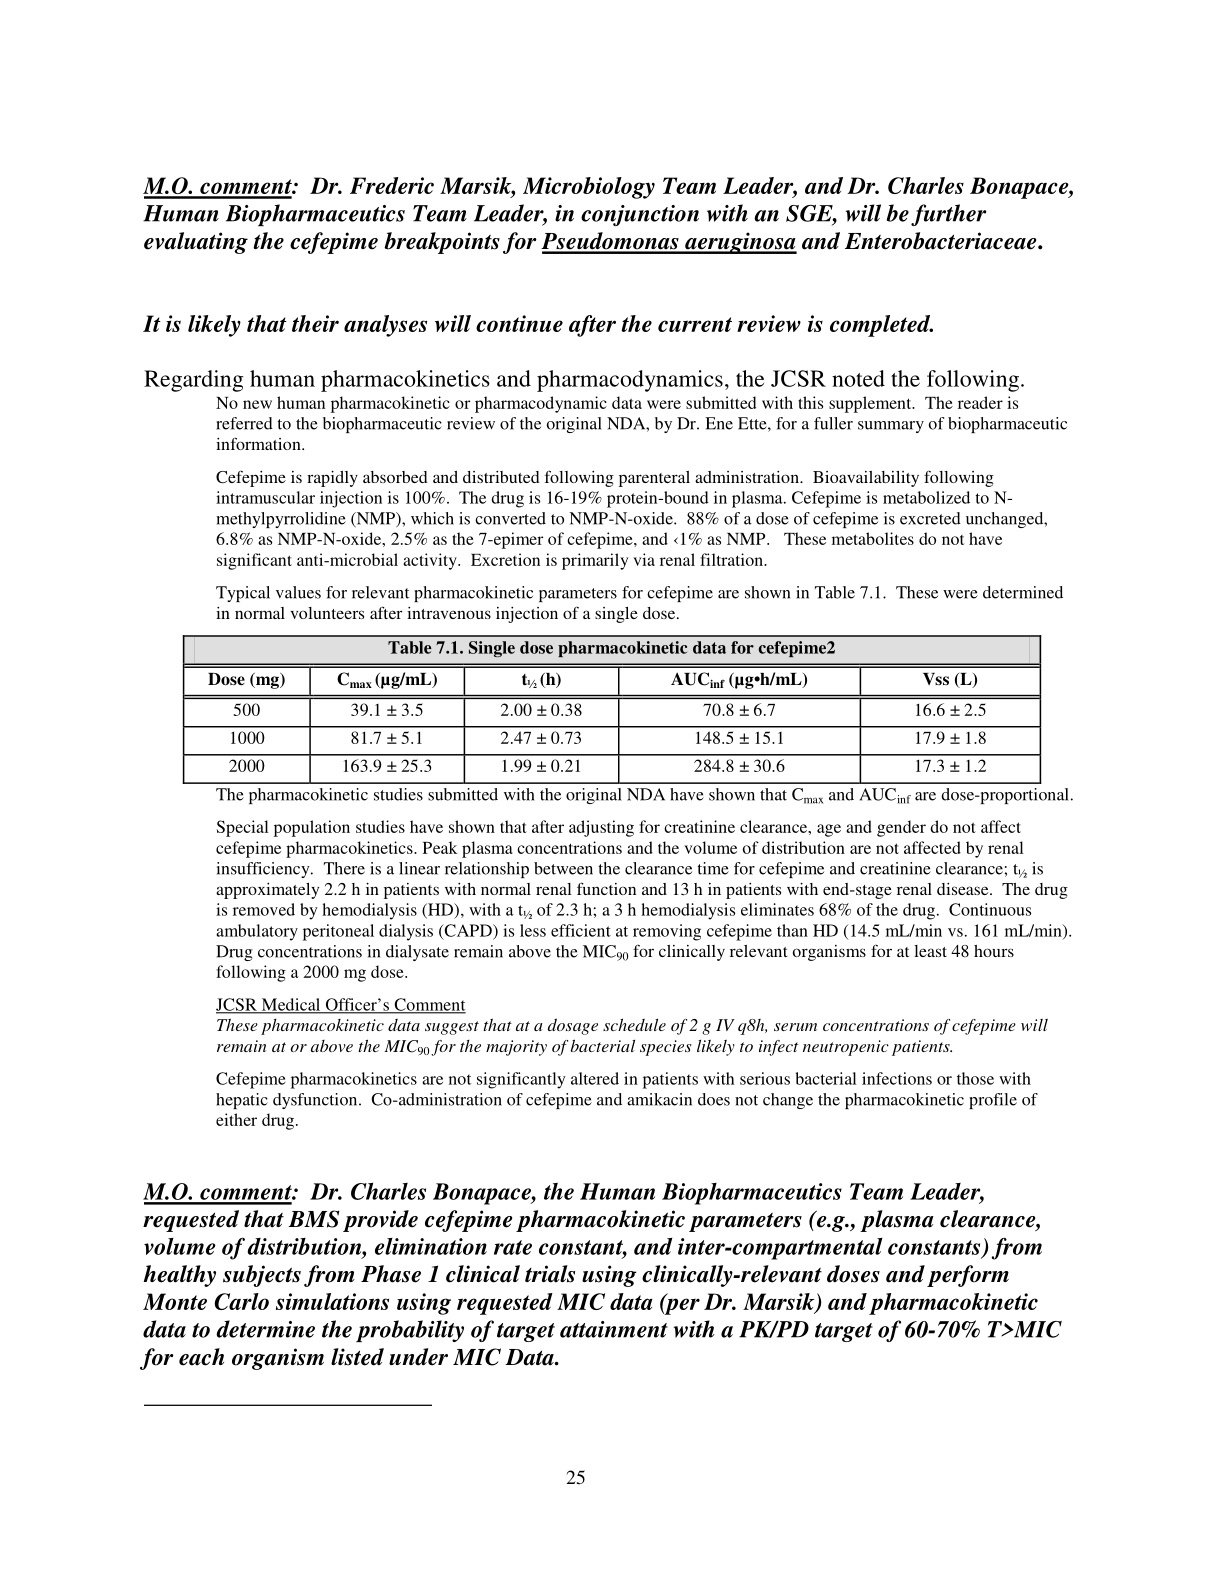merged_cells: (183, 634, 1041, 784)
